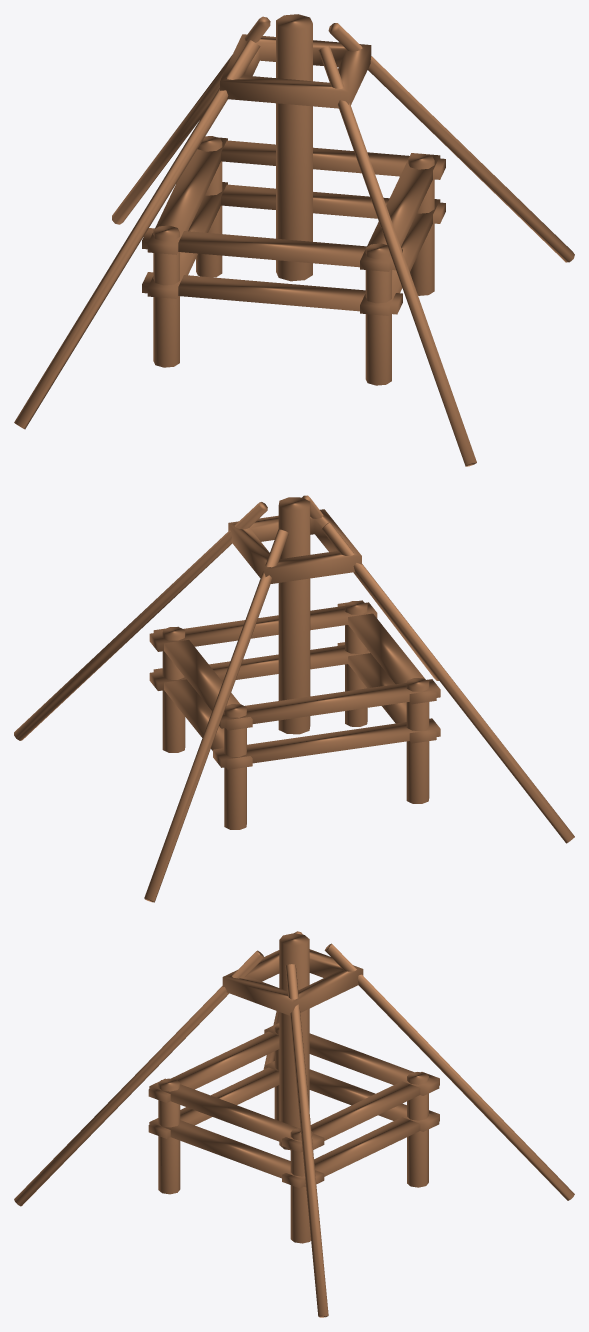
File: 090_ぼうつき.glb
3 views of the same model, one above another, from view 1: azimuth 30°, elevation 25°; view 2: azimuth 150°, elevation 25°; view 3: azimuth 270°, elevation 25° (orthographic). The views are drawn at different scales.
Visible parts, largest first — view 1: ぼうつき; view 2: ぼうつき; view 3: ぼうつき.
Part boxes in pixels (bbox=[...]): ぼうつき: bbox=[14, 14, 574, 466]; ぼうつき: bbox=[14, 495, 574, 902]; ぼうつき: bbox=[14, 931, 574, 1317].
Bounding box in the file's own units: 7.97 × 4.15 × 8.01.
